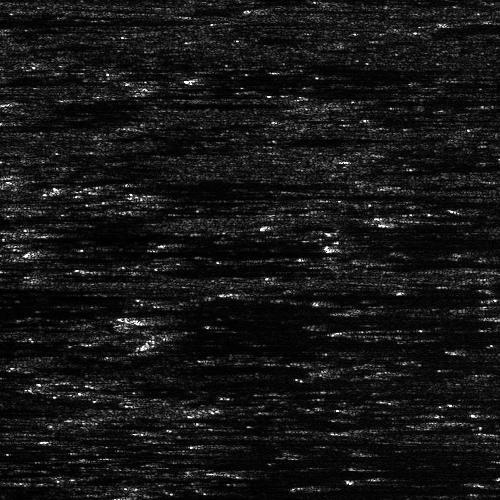rock: (148, 288, 293, 299), (314, 235, 387, 254), (184, 465, 299, 476), (293, 326, 408, 335), (285, 481, 306, 492), (4, 99, 35, 106), (497, 314, 500, 319)
shadow: (0, 3, 165, 22), (351, 235, 500, 254), (0, 307, 216, 318), (20, 99, 257, 106), (242, 465, 391, 476), (221, 288, 354, 299), (351, 326, 495, 335), (0, 14, 81, 27), (296, 481, 371, 492), (0, 414, 21, 439), (0, 263, 10, 270)
